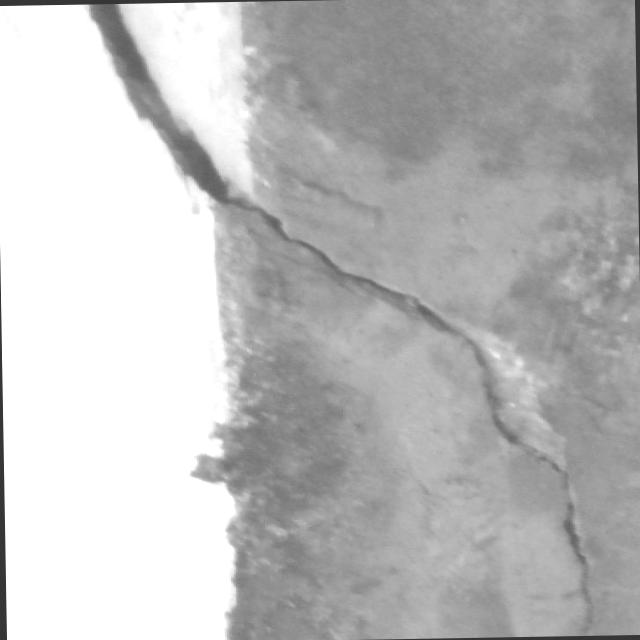crack: (81, 0, 599, 640)
spall: (347, 272, 571, 479)
